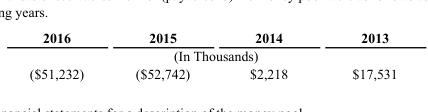table: (28, 29, 396, 81)
table column: (109, 29, 219, 81), (219, 29, 319, 81), (28, 29, 109, 81), (319, 29, 396, 81)
table column header: (28, 29, 396, 45)
table projected row header: (28, 45, 396, 64)
table row: (28, 45, 396, 64), (28, 64, 396, 81), (28, 29, 396, 45)
